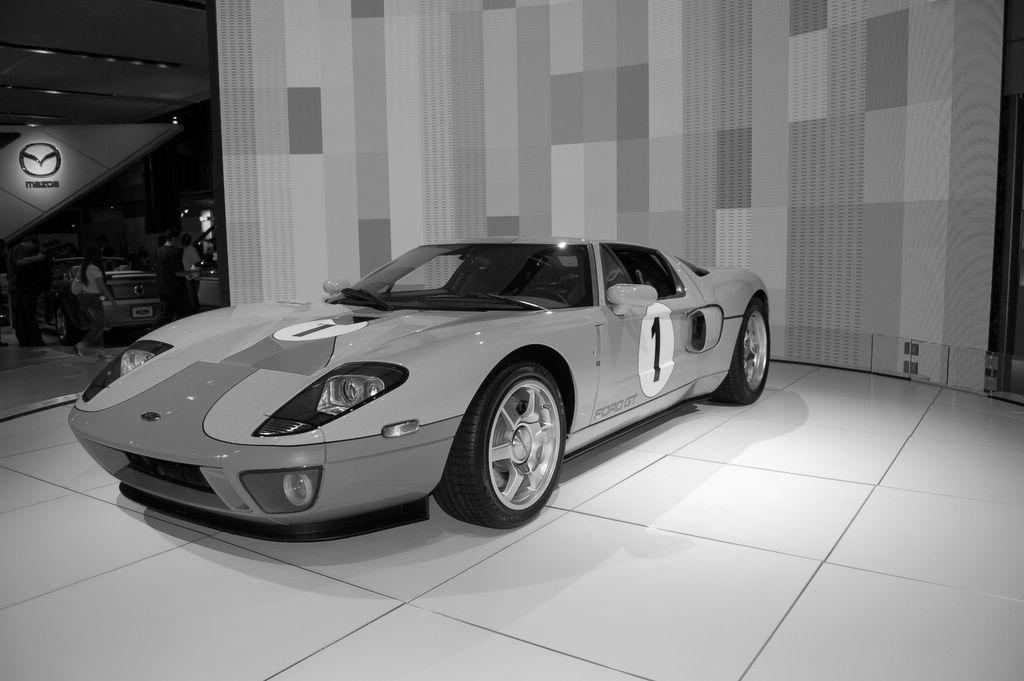car: (64, 234, 771, 527)
